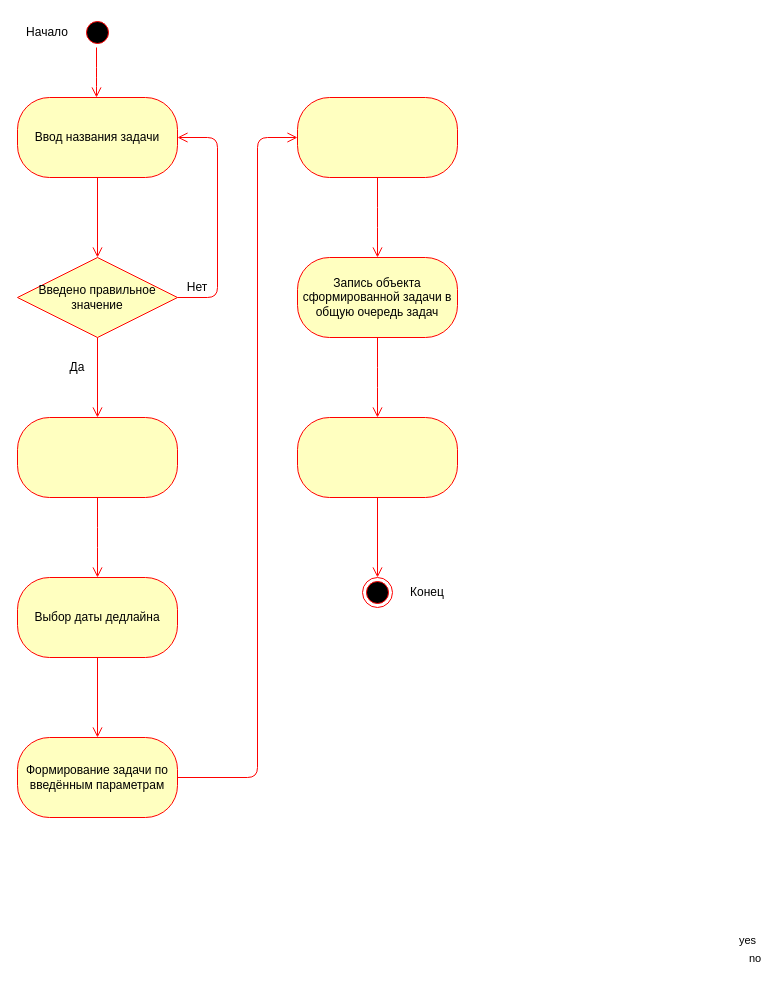
Some shapes in this 779 by 982 pixel diagram are drawn without their labels. Here are the shapes that lost their labels. From the top down, the box of each, then its label:
(296, 96, 458, 178): Создание файлов для записи данных о задаче
(16, 416, 178, 498): Ввод пояснения к задаче (если оно нужно)
(296, 416, 458, 498): Отображение задач в общем списке дел
